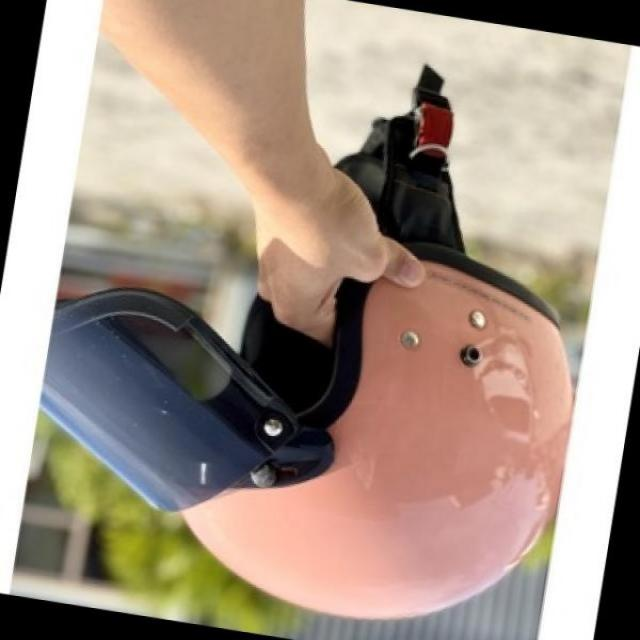Helmet: (33, 66, 571, 623)
